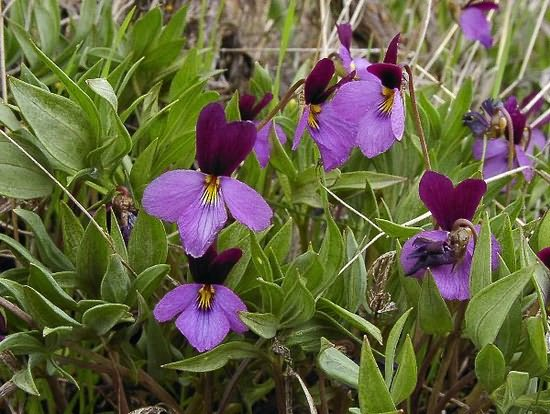violet: (136, 142, 271, 262), (400, 182, 497, 309), (152, 251, 247, 360), (288, 65, 360, 172), (357, 48, 417, 160)
